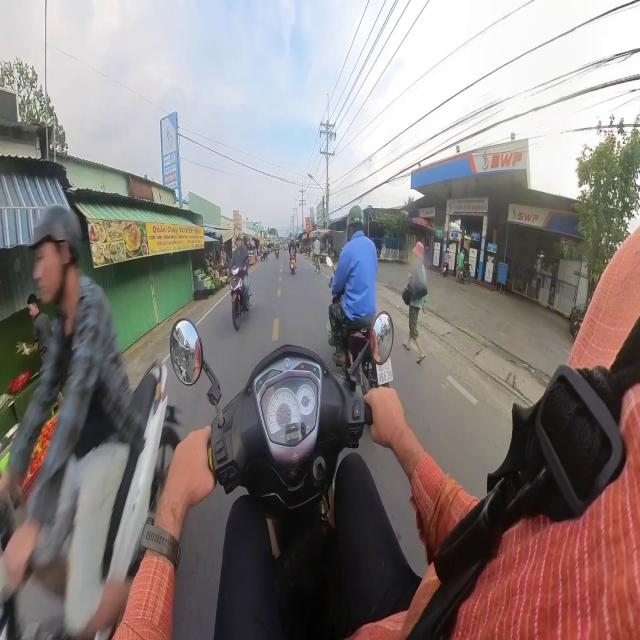motorcycle: (171, 320, 372, 638), (103, 363, 179, 581), (343, 315, 393, 392), (230, 267, 247, 330), (289, 256, 296, 274), (275, 248, 278, 258)
